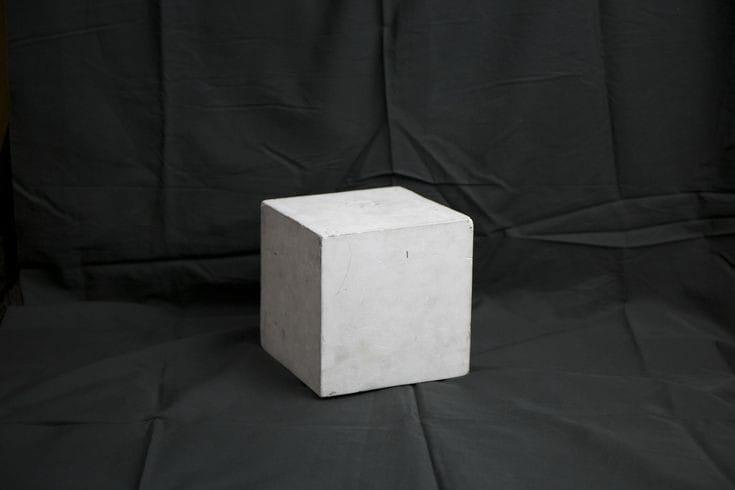cubos: (250, 180, 492, 404)
